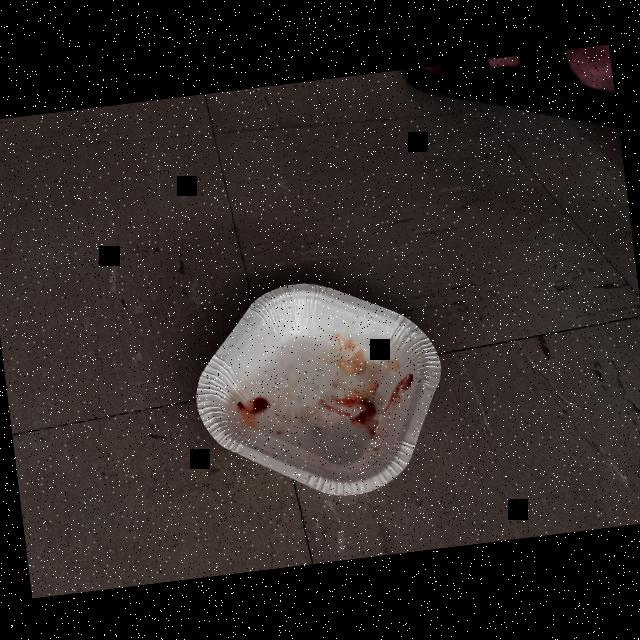cardboard_bowl: (173, 258, 464, 519)
